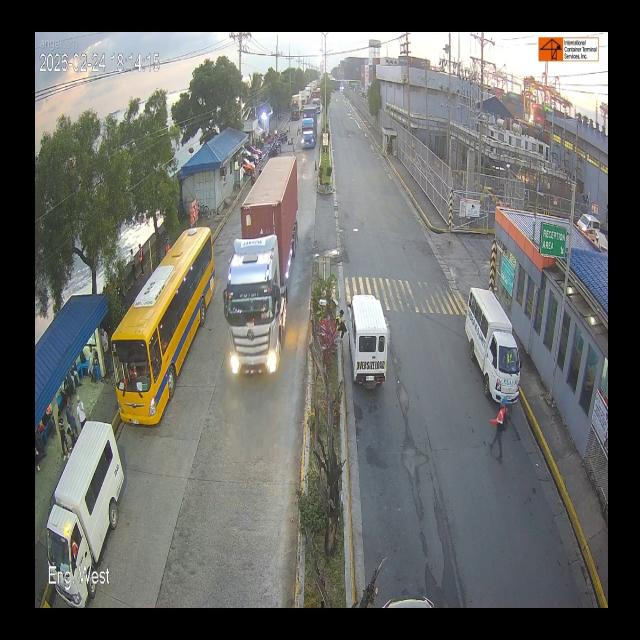car: (108, 219, 220, 442), (44, 432, 124, 558), (462, 298, 526, 399), (348, 287, 393, 400)
truck: (220, 148, 310, 396), (299, 107, 320, 156), (290, 92, 302, 122)
